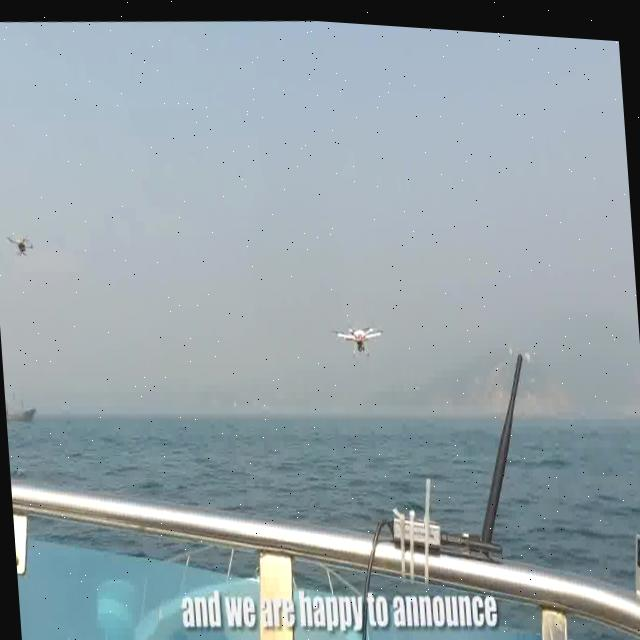drone: (330, 310, 388, 359), (1, 228, 34, 259)
